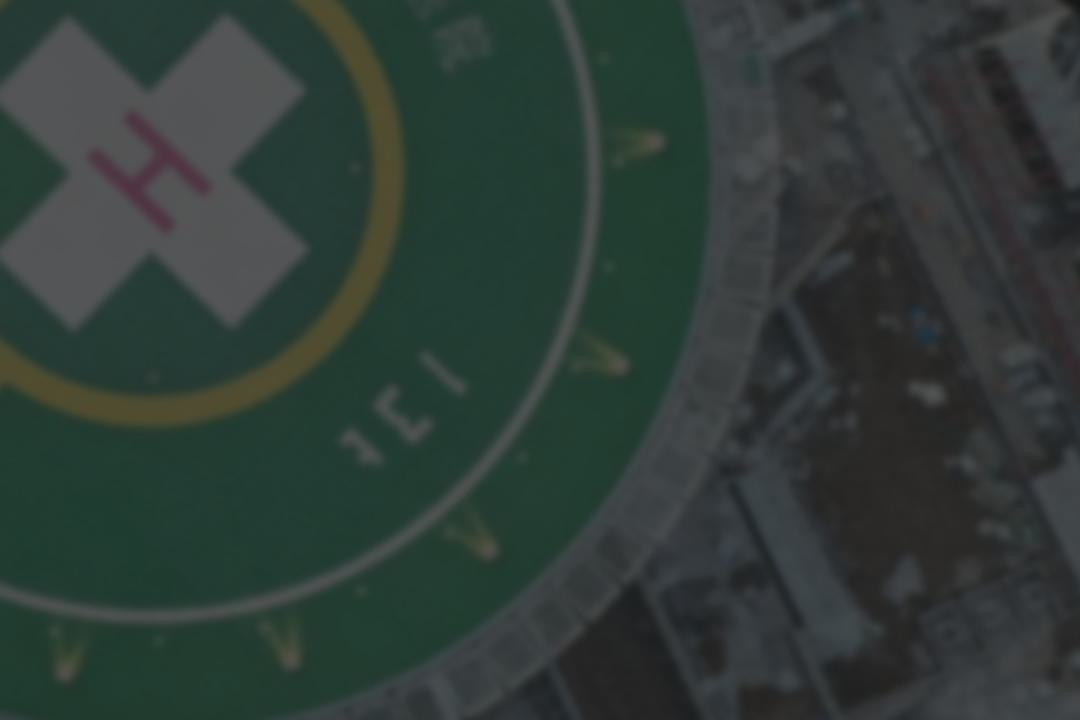Apron: (15, 1, 452, 469)
